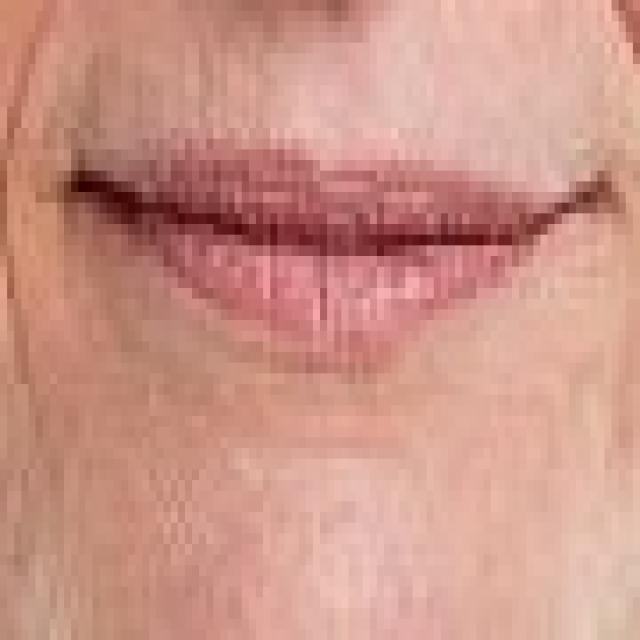closed-mouth: (56, 128, 612, 374)
